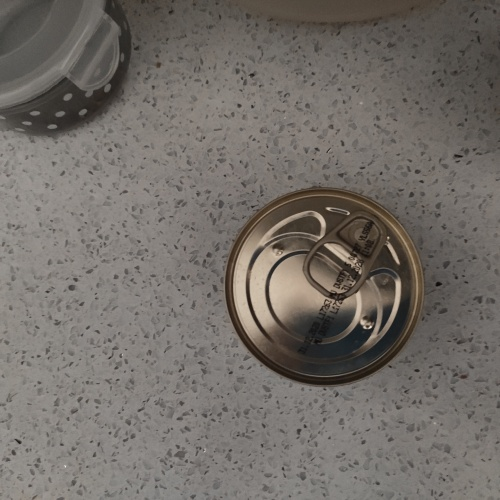tonno: (212, 178, 428, 393)
